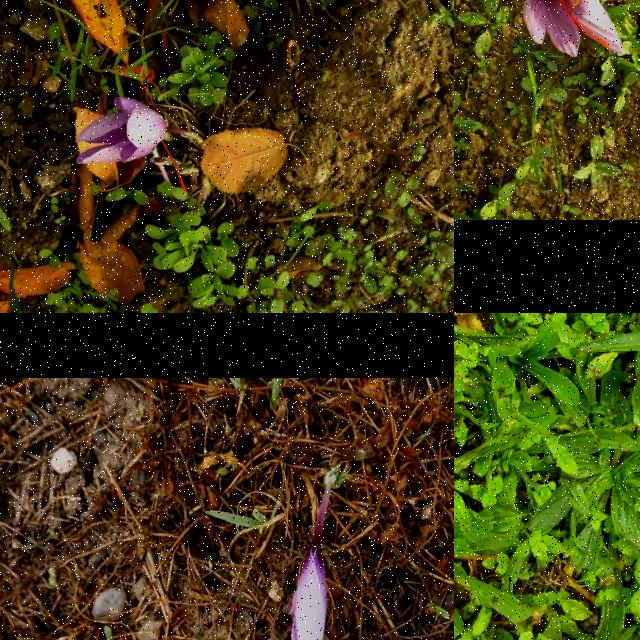flower: (75, 97, 188, 191), (522, 0, 636, 57), (291, 536, 328, 640)
